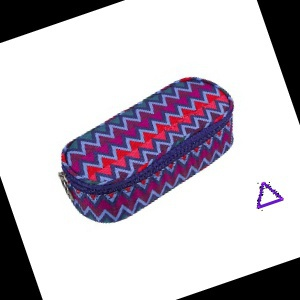triangle: (254, 180, 284, 210)
